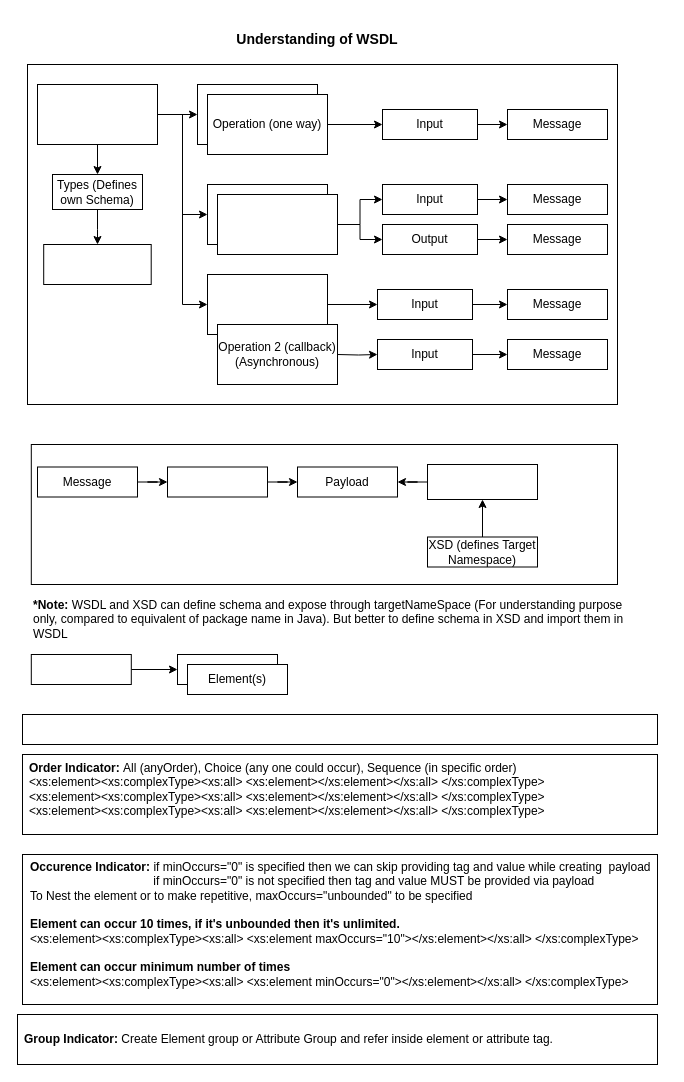
Some shapes in this 684 by 1082 pixel diagram are drawn without their labels. The centre of each missing label's shape, as x and y in pixels:
"Expose via TargetNameSpace" goes at (97,264).
"Indicators: Order Indicator, Occurence Indicator, Group Indicator" goes at (340,729).
"Namespace(XSD Reference)" goes at (482,482).
"Operation (Synchronous)" goes at (277,224).
"Operation1 (client -> Server)" goes at (267,304).
"Part(s)" goes at (217,481).
"WSDL" goes at (97,114).
"XSD" goes at (80,669).
